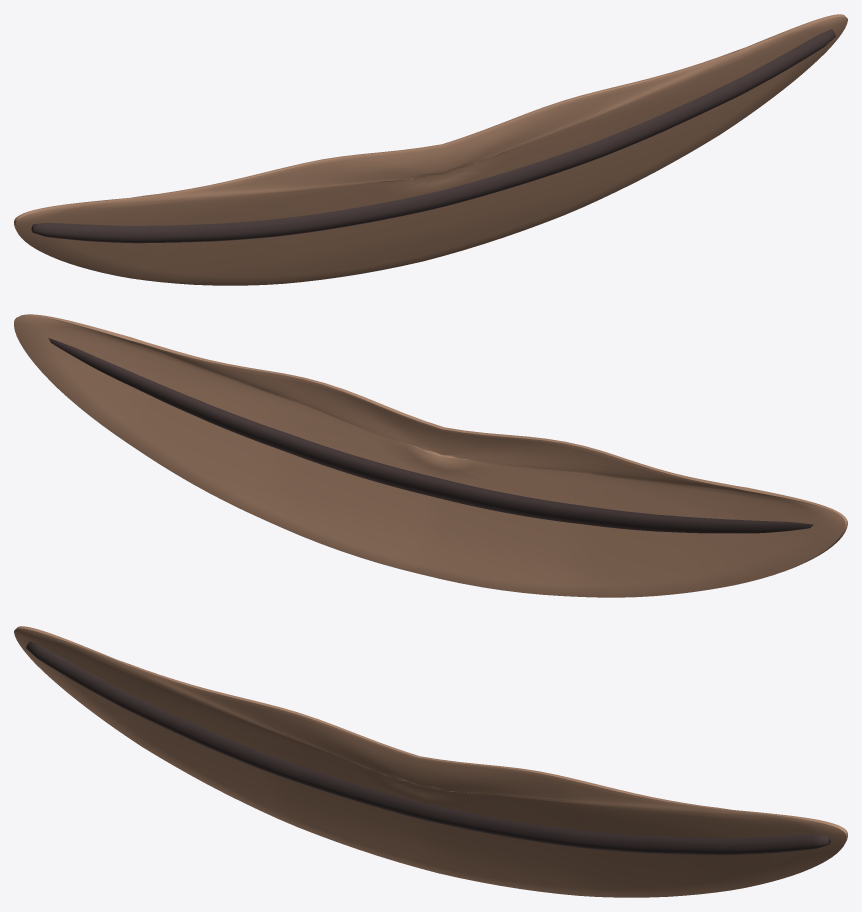
The model's file is Masculine-mouth-lips.glb.
3 views of the same model, one above another, from view 1: azimuth 30°, elevation 25°; view 2: azimuth 150°, elevation 25°; view 3: azimuth 330°, elevation 25° (orthographic).
Parts seen in each view (by area): view 1: Face / closed mouth182, Face / closed seam182; view 2: Face / closed mouth182, Face / closed seam182; view 3: Face / closed mouth182, Face / closed seam182.
Part boxes in pixels (<box>): Face / closed mouth182: <box>14,14,847,285</box>; Face / closed seam182: <box>31,29,835,243</box>; Face / closed mouth182: <box>14,314,847,597</box>; Face / closed seam182: <box>48,338,813,533</box>; Face / closed mouth182: <box>14,626,847,897</box>; Face / closed seam182: <box>26,641,830,855</box>.
Bounding box in the file's own units: 0.1564 × 0.0279 × 0.00793.
